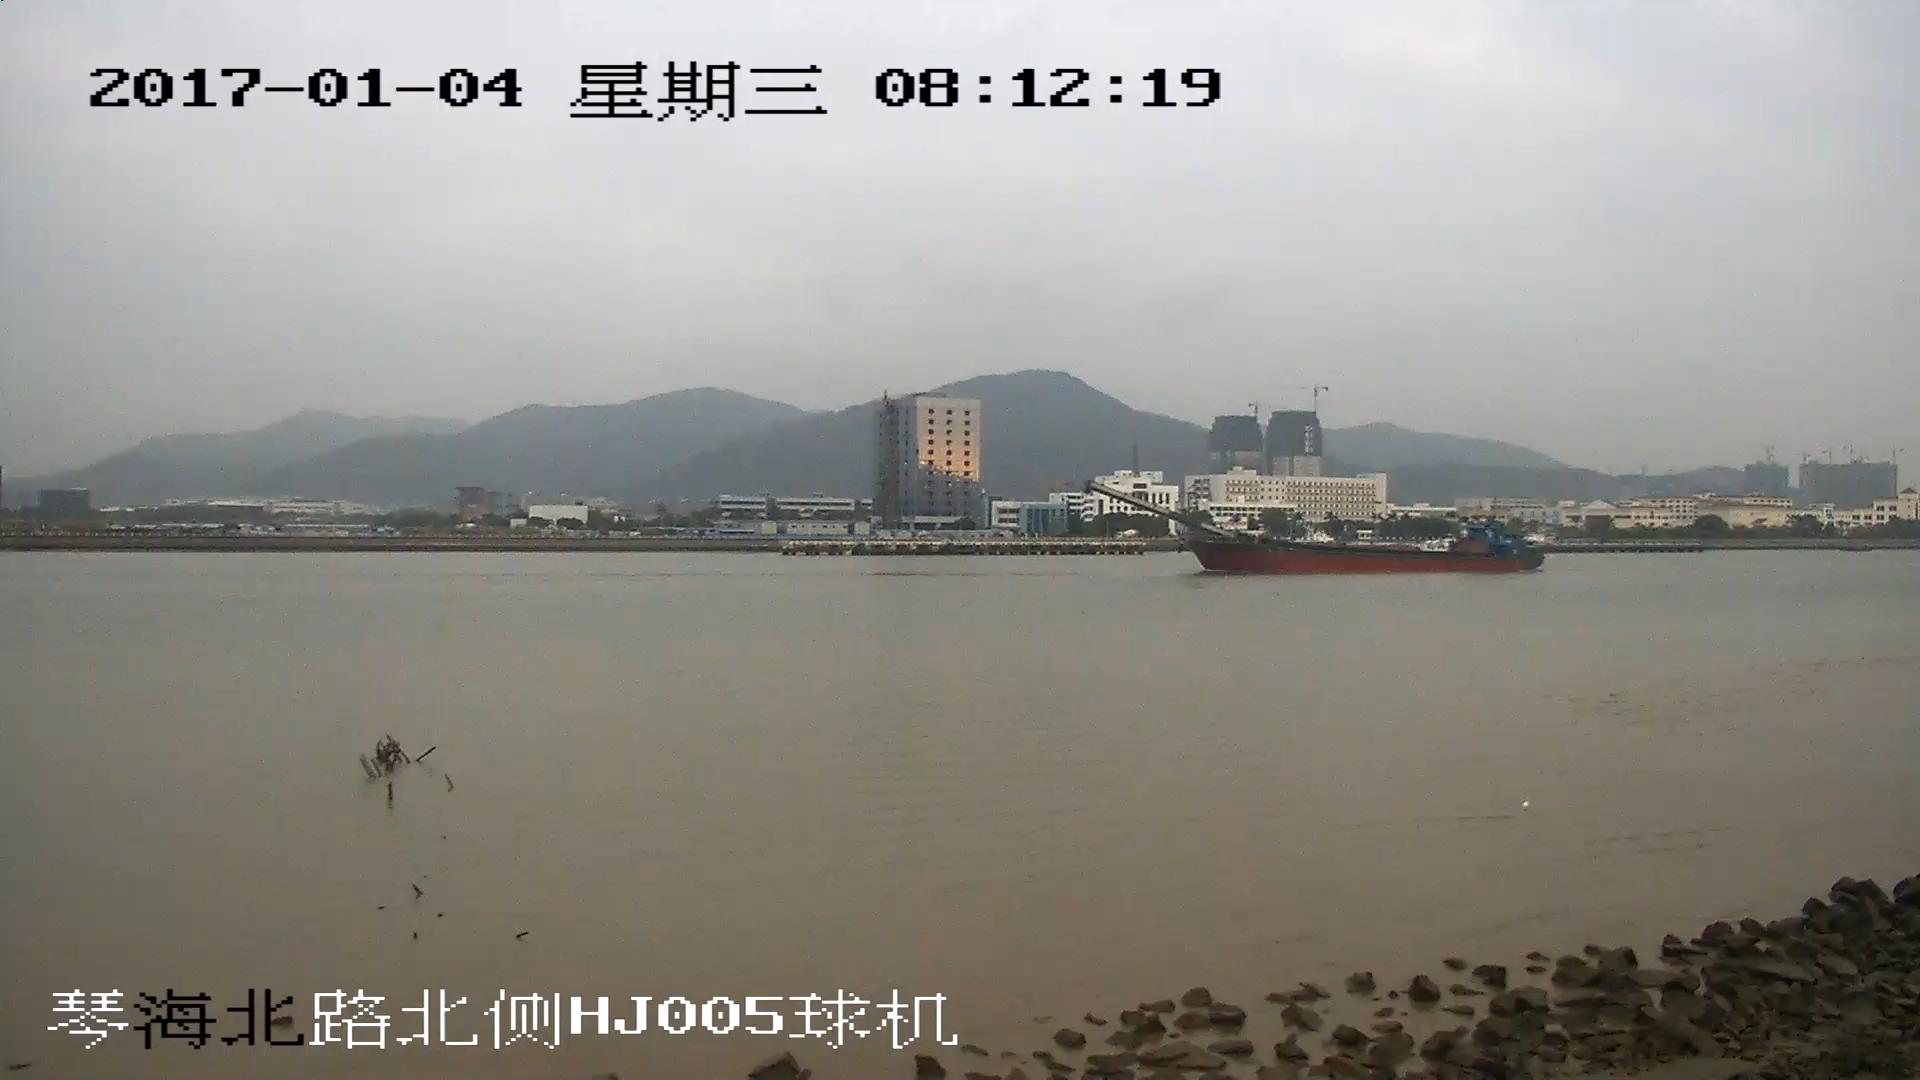bulk cargo carrier: (1089, 480, 1539, 573)
